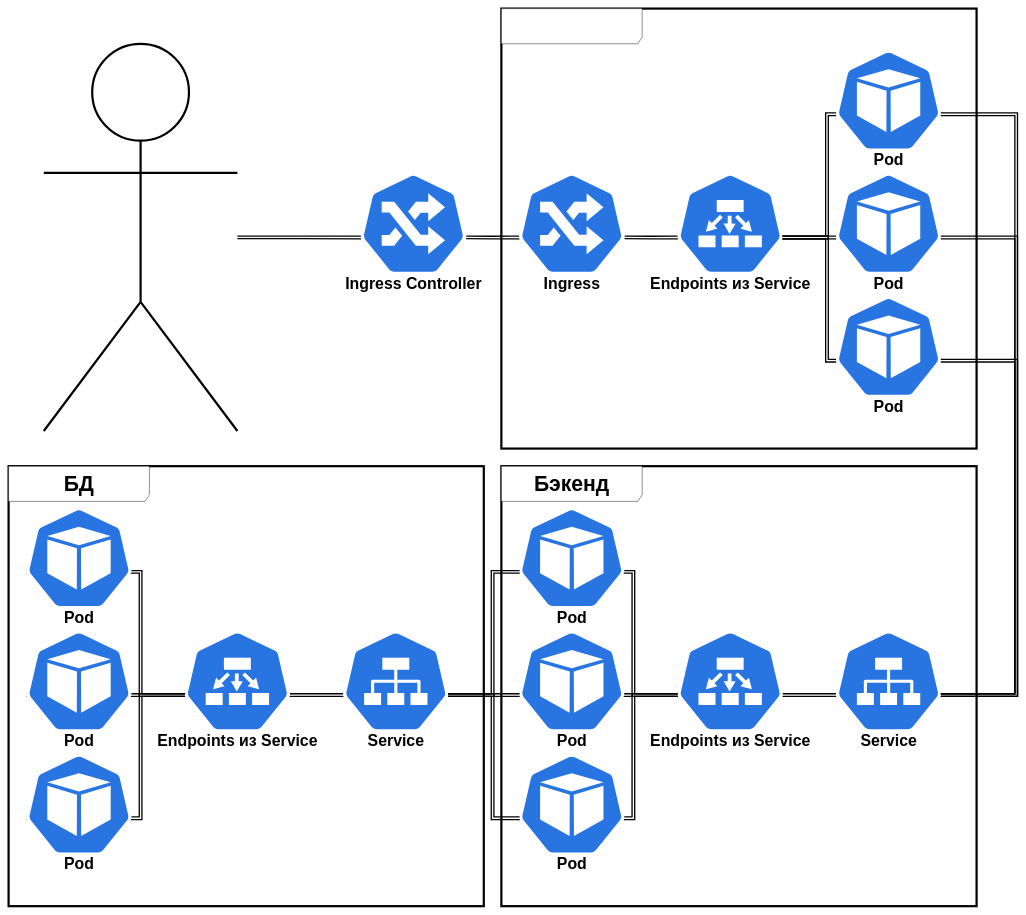
Image size: 1026x915. Some labels were removed from this diagram. The box of each missing label's shape, as (x1, y1, x2, y2) in pixels:
Пользователи: (42, 42, 238, 432)
Фронтенд: (501, 8, 977, 449)
